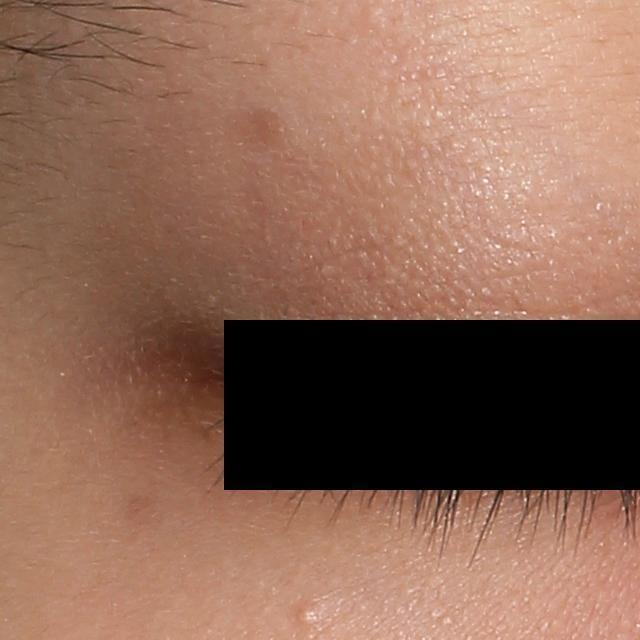comedo: (293, 603, 324, 629), (362, 6, 389, 27)
melasma: (222, 103, 288, 168), (120, 486, 167, 549)
